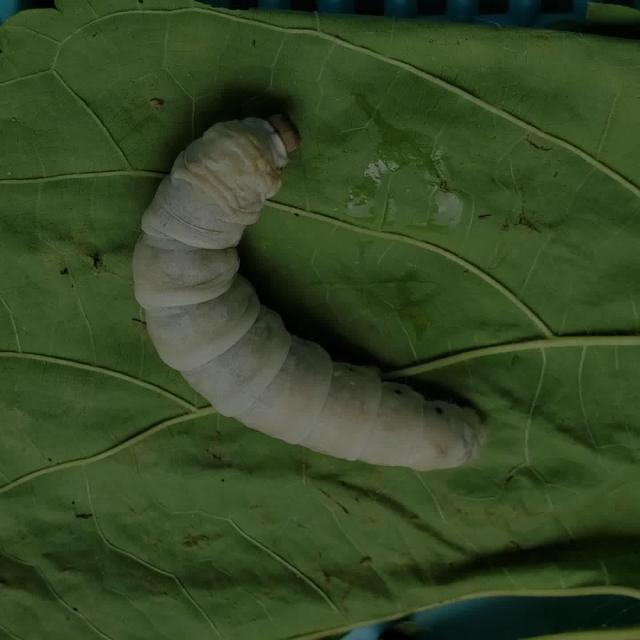Grasserie: (111, 85, 520, 528)
